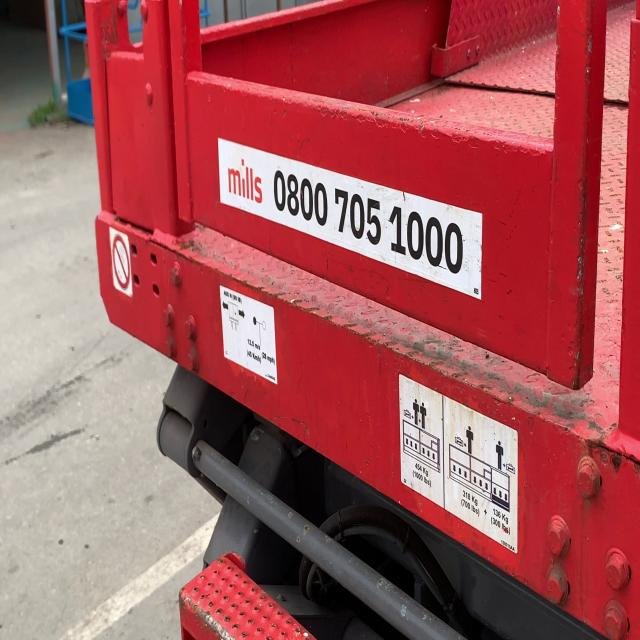Adesivo Longo: (217, 137, 489, 309)
